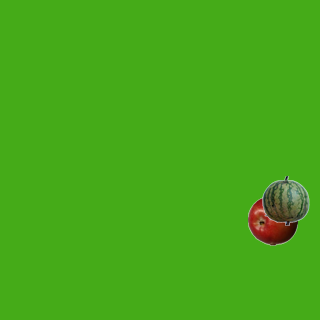Apple Braeburn: (247, 195, 297, 245)
Watermelon: (260, 175, 310, 225)
